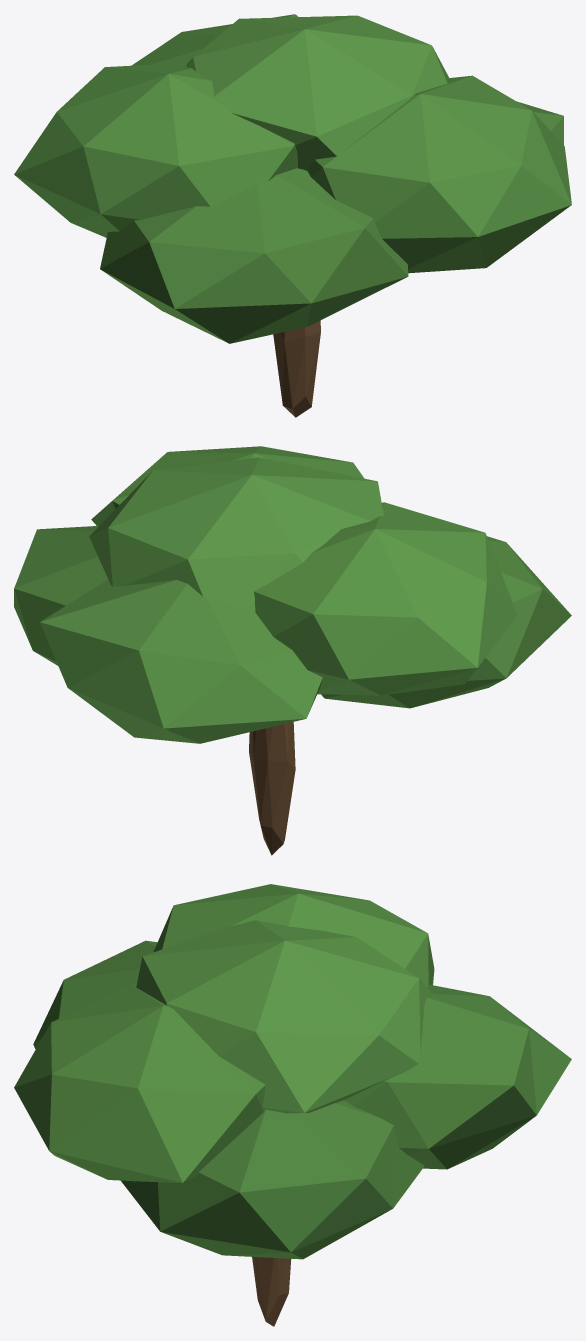
The model's file is hazel.glb.
3 renders of one model, top to bottom at view 1: azimuth 30°, elevation 25°; view 2: azimuth 150°, elevation 25°; view 3: azimuth 270°, elevation 25°, orthographic. The views are drawn at different scales.
Size of the model in its own units: 4.03 by 2.96 by 3.81.
Materials: 1 (1 with a texture image).
